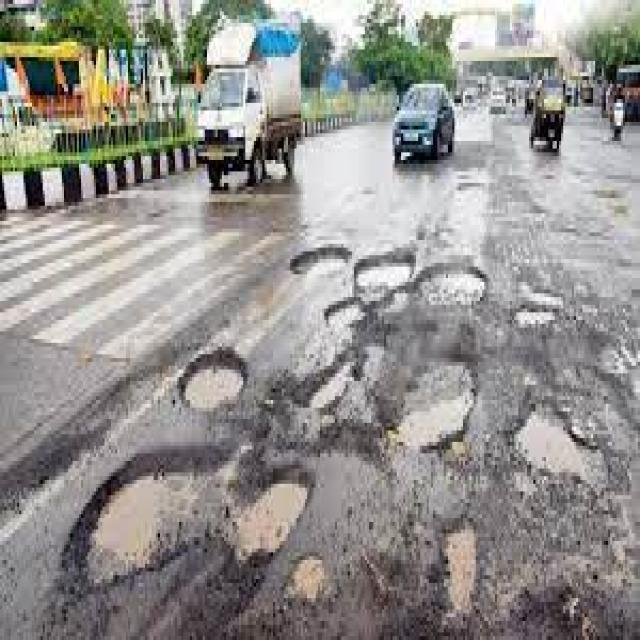Pothole: (87, 438, 309, 583), (290, 248, 486, 331), (277, 343, 384, 438), (516, 415, 608, 495), (395, 366, 476, 450), (175, 350, 247, 415), (446, 530, 476, 613), (542, 594, 589, 640), (288, 560, 326, 602), (518, 297, 561, 324)
